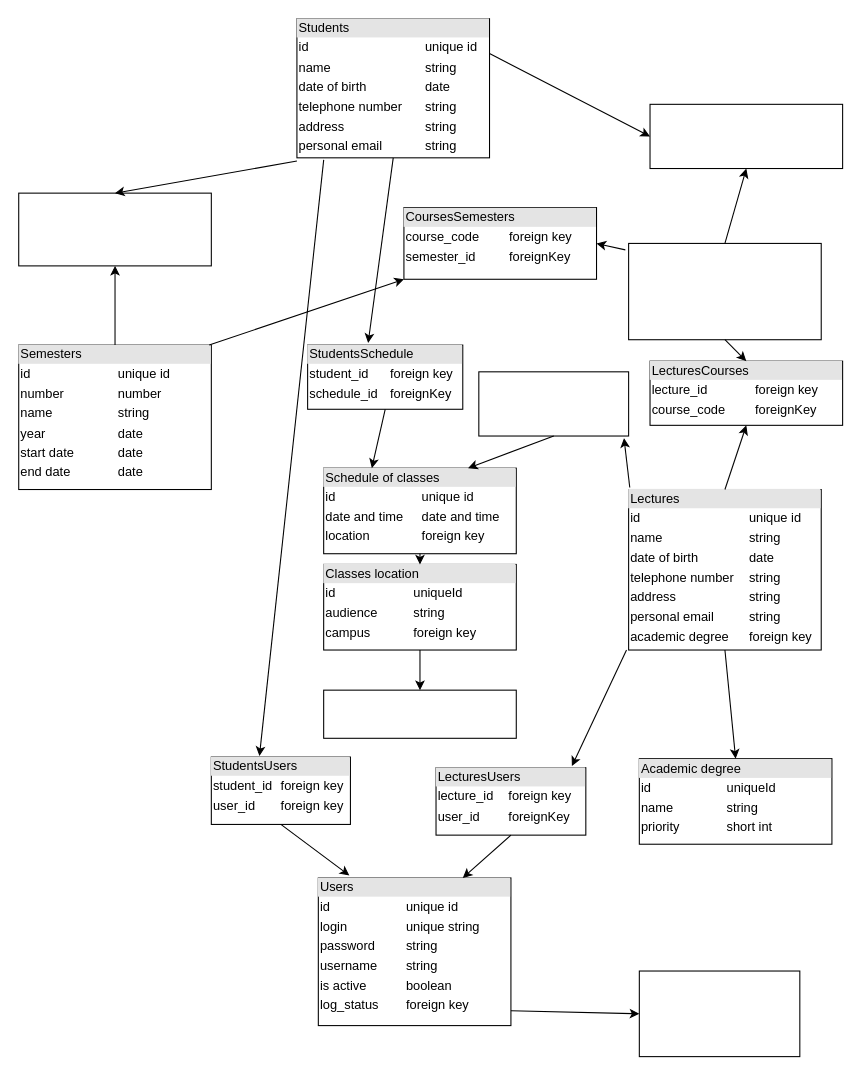
Image size: 861x1075. Some labels were removed from this diagram. The centre of each missing label's shape, as x and y in pixels:
"Campus address string" goes at point 419,713.
"Courses code unique char(6) name string description string" goes at point 724,291.
"LecturesSchedule lecture_id foreign key schedule_id foreign key" goes at point 553,403.
"Log entries id unique id logged on boolean logged off boolean" goes at point 719,1013.
"StudentsCourses student_id foreign key course_code foreignKey" goes at point 746,136.
"StudentsSemesters student_id foreign key semester_id foreignKey" goes at point 114,229.
